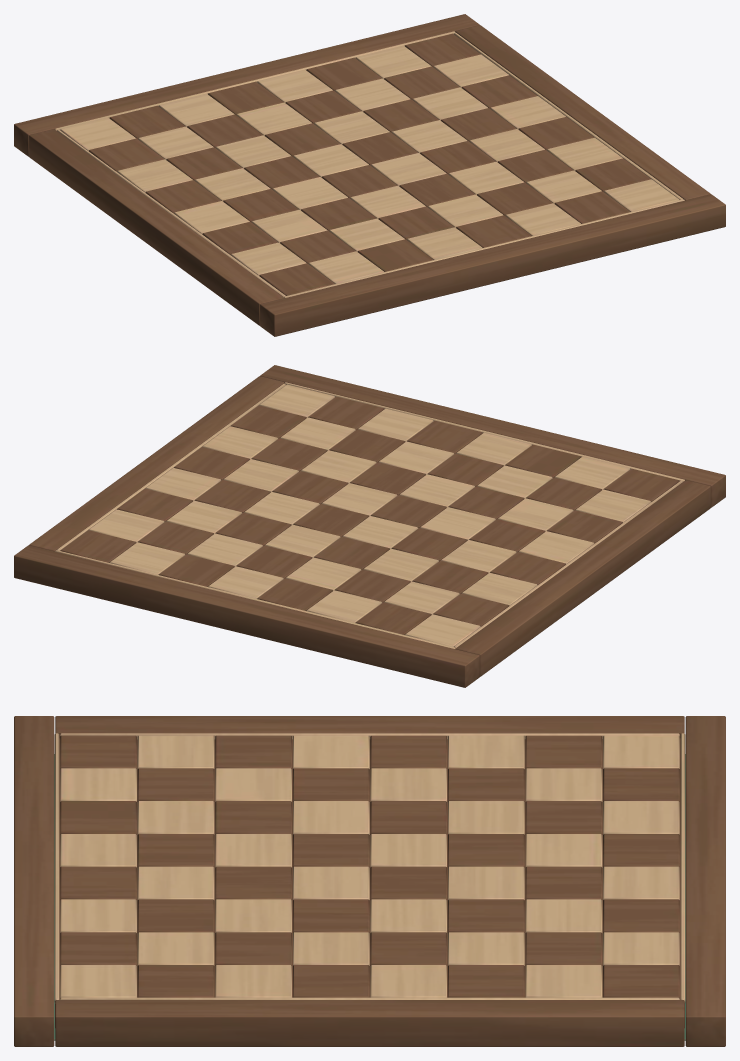
File: board.glb
The picture shows the model from 3 angles, top to bottom: view 1: azimuth 30°, elevation 25°; view 2: azimuth 150°, elevation 25°; view 3: azimuth 270°, elevation 25°; orthographic projection. The views are drawn at different scales.
Visible parts, largest first — view 1: chess-board_body; view 2: chess-board_body; view 3: chess-board_body.
Boxes of the visible parts, x1,y1,x2,y2 form: chess-board_body: (14,14,725,336); chess-board_body: (14,365,725,687); chess-board_body: (14,716,725,1046).
Size of the model in its own units: 9.18 by 0.464 by 9.18.
Materials: 1 (1 with a texture image).
